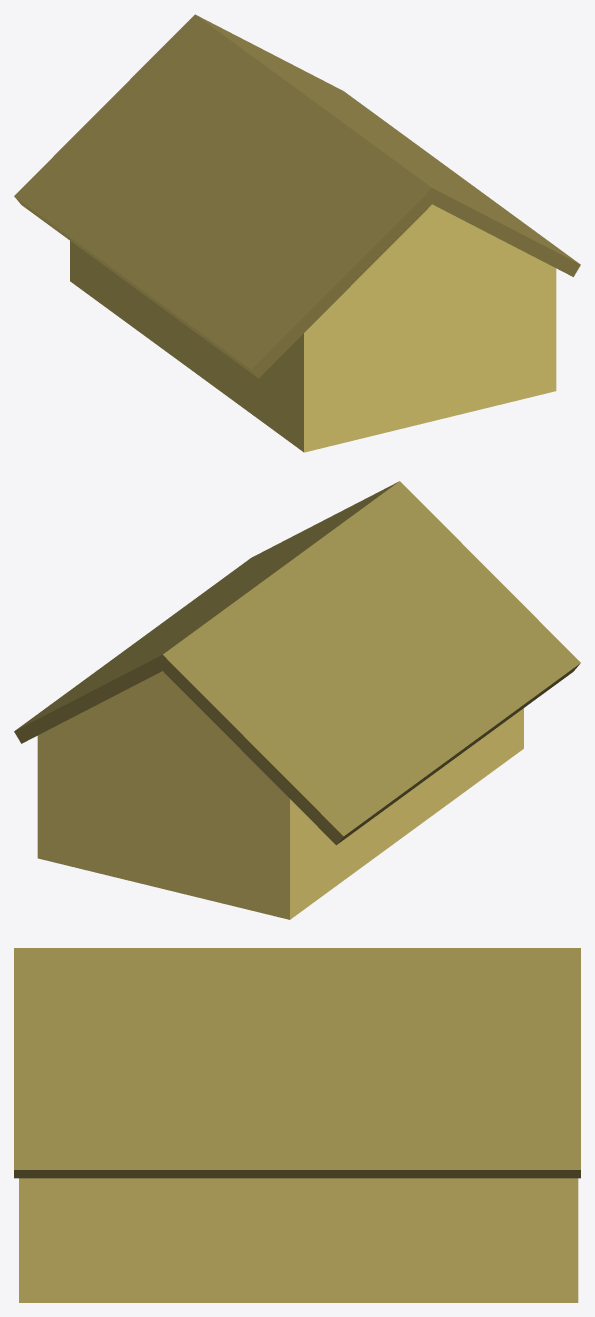
File: result.glb
3 views of the same model, one above another, from view 1: azimuth 30°, elevation 25°; view 2: azimuth 150°, elevation 25°; view 3: azimuth 270°, elevation 25° (orthographic). The views are drawn at different scales.
Visible parts, largest first — view 1: 7152e3f6-ca8c-48f0-8a85-1a5e7febe2a0__undefined (×2), 29878264-16a5-47f2-9763-c7832330f418__undefined; view 2: 7152e3f6-ca8c-48f0-8a85-1a5e7febe2a0__undefined (×2), 29878264-16a5-47f2-9763-c7832330f418__undefined; view 3: 7152e3f6-ca8c-48f0-8a85-1a5e7febe2a0__undefined, 29878264-16a5-47f2-9763-c7832330f418__undefined.
Boxes of the visible parts, <box> form: 7152e3f6-ca8c-48f0-8a85-1a5e7febe2a0__undefined (×2): <box>14,14,580,378</box>; 29878264-16a5-47f2-9763-c7832330f418__undefined: <box>70,204,556,452</box>; 7152e3f6-ca8c-48f0-8a85-1a5e7febe2a0__undefined (×2): <box>14,481,580,845</box>; 29878264-16a5-47f2-9763-c7832330f418__undefined: <box>37,671,523,919</box>; 7152e3f6-ca8c-48f0-8a85-1a5e7febe2a0__undefined: <box>14,948,580,1178</box>; 29878264-16a5-47f2-9763-c7832330f418__undefined: <box>19,1178,578,1302</box>.
Size of the model in its own units: 652 by 445 by 813.
